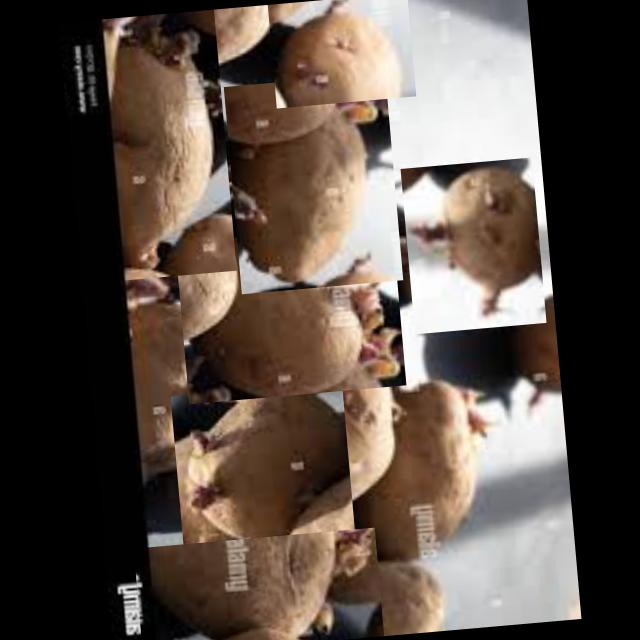Sprouted potato: (174, 222, 406, 402), (223, 71, 403, 292), (98, 8, 236, 279), (170, 380, 356, 560), (354, 358, 513, 562), (133, 526, 384, 640), (400, 156, 546, 333), (267, 0, 416, 107)
